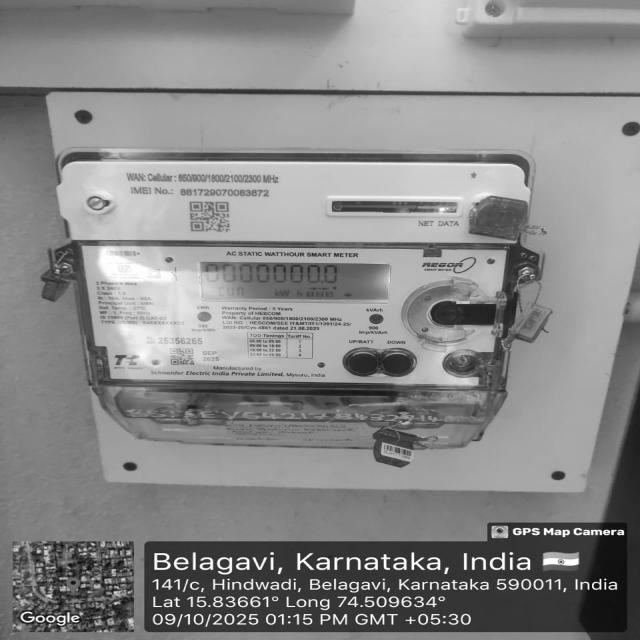meter: (62, 156, 530, 384)
